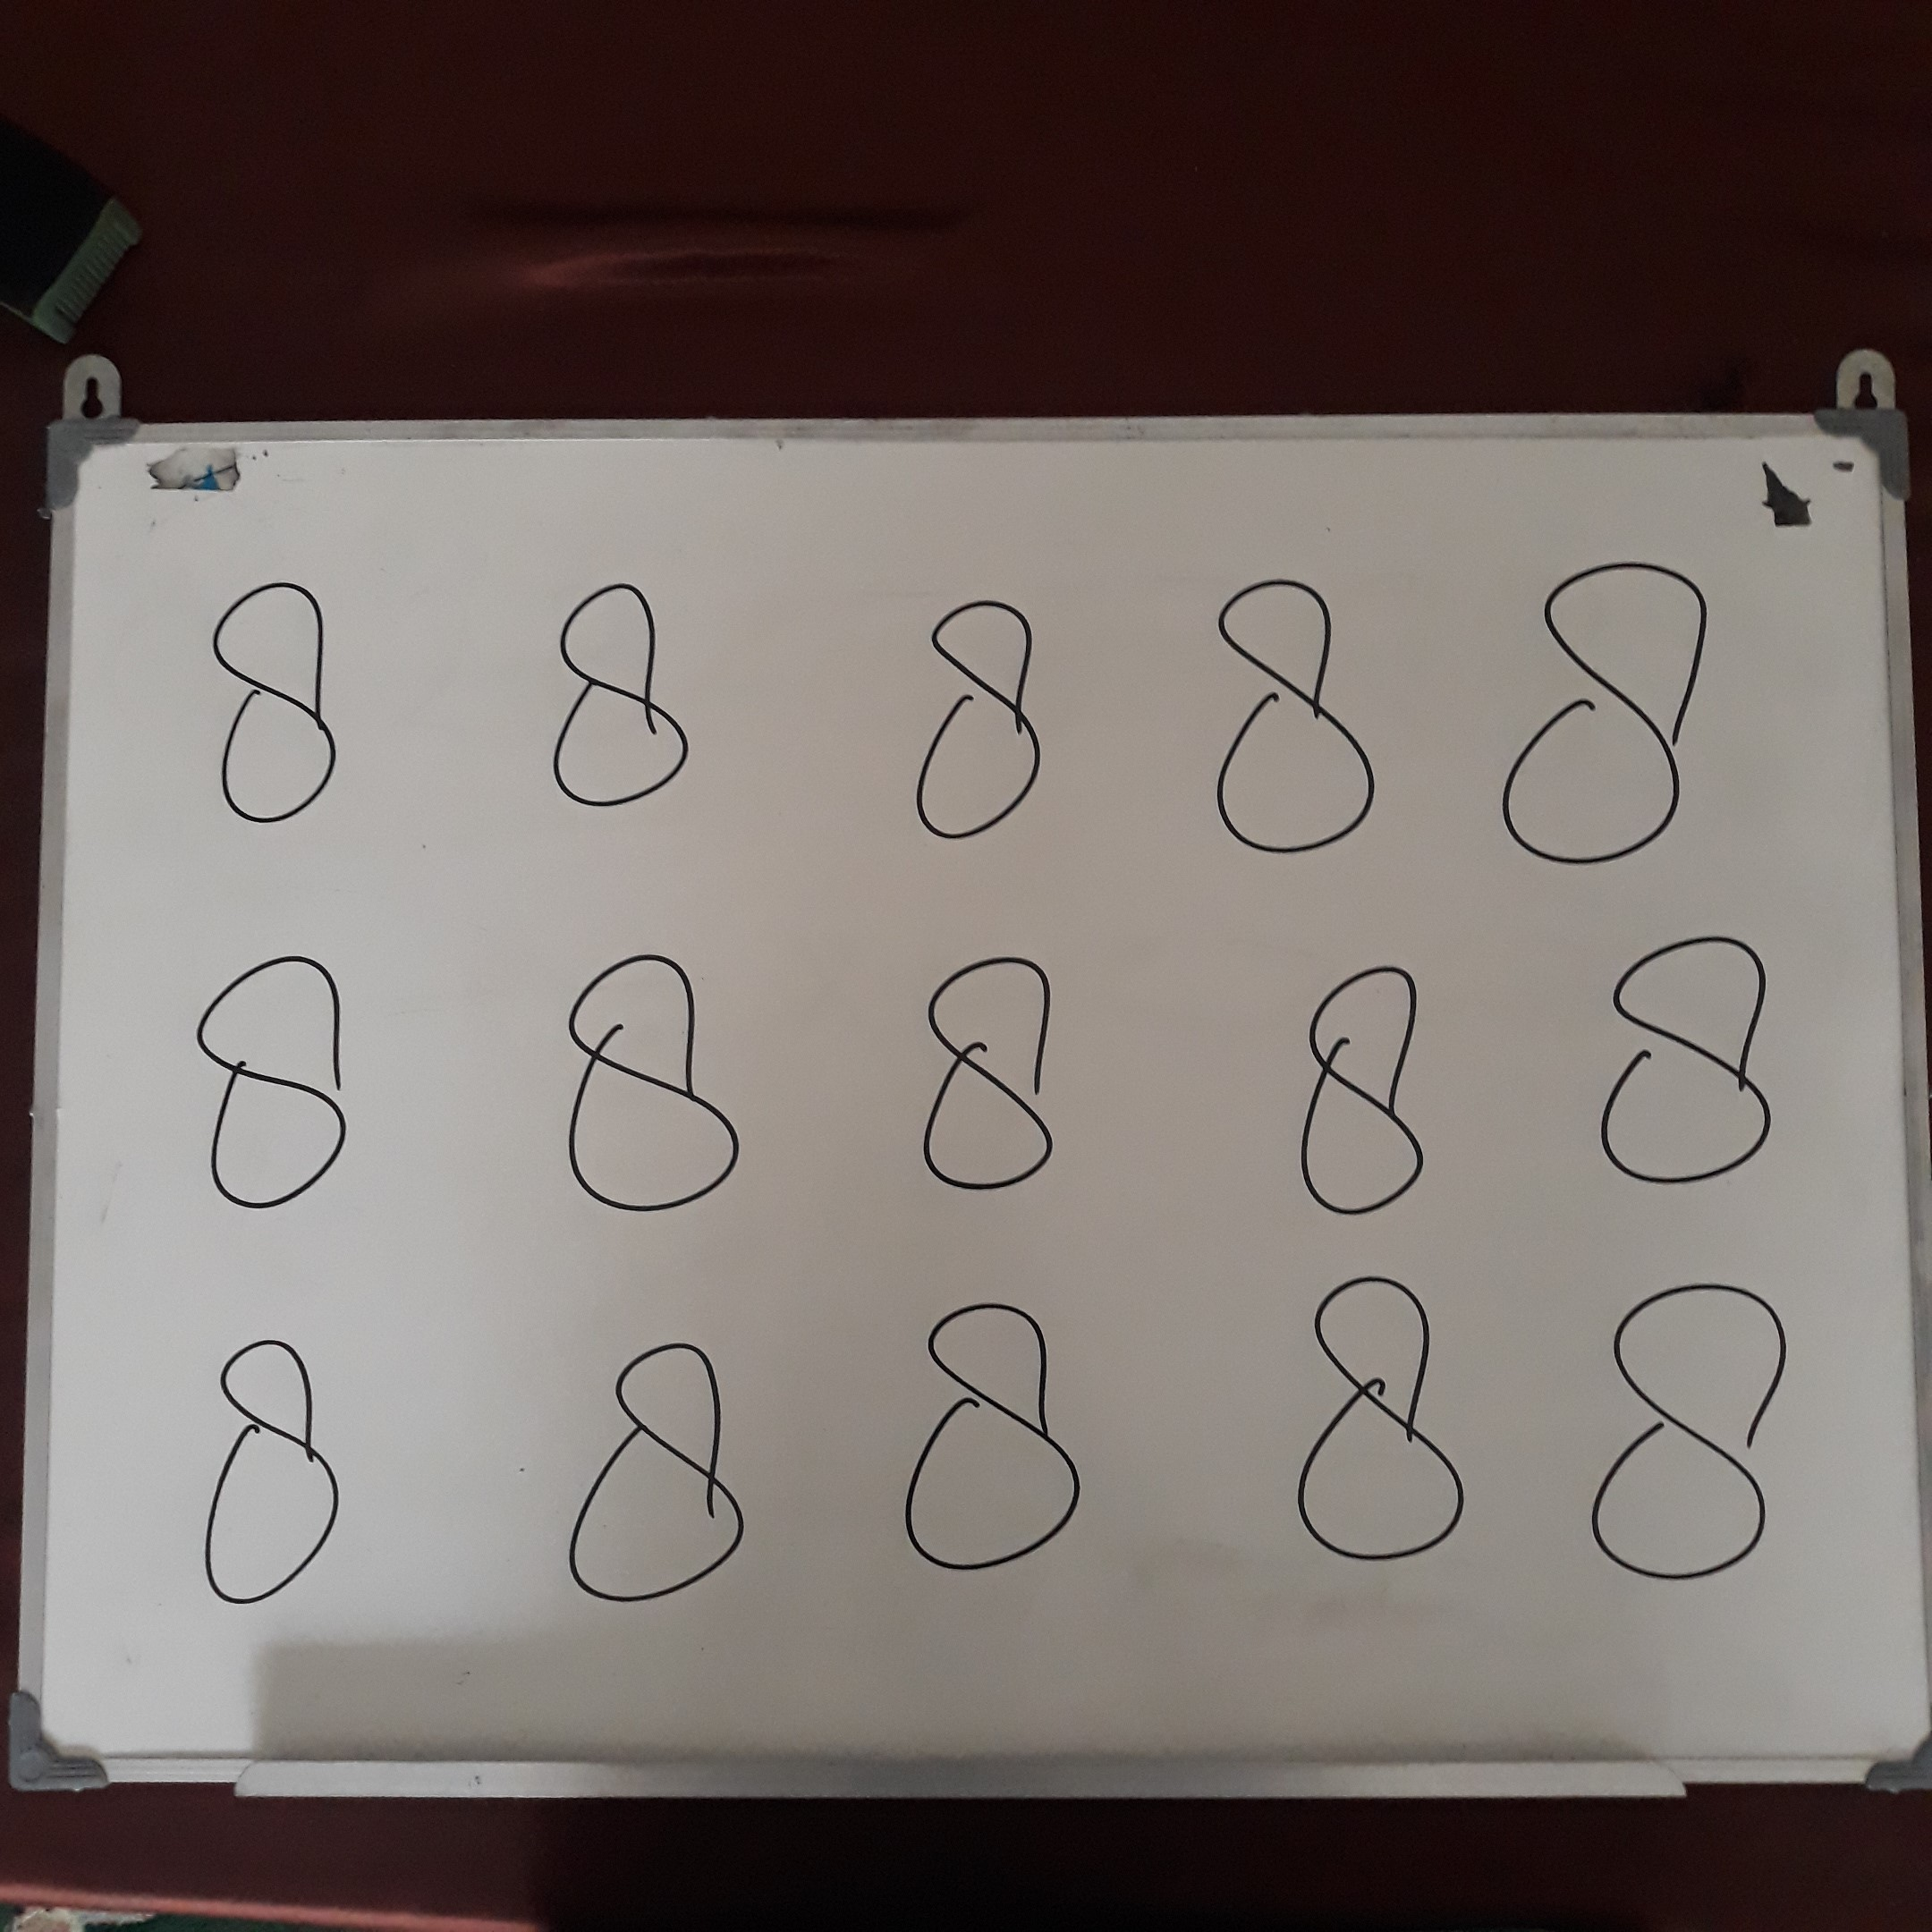num8: (1572, 1274, 1813, 1609), (1496, 556, 1730, 886), (880, 1279, 1111, 1609), (533, 938, 781, 1246), (1281, 1255, 1487, 1597), (1579, 921, 1819, 1214), (172, 936, 392, 1244), (1195, 560, 1405, 877), (569, 1324, 779, 1622), (521, 565, 722, 845), (181, 1329, 369, 1618), (896, 942, 1080, 1219), (1288, 949, 1458, 1231), (198, 569, 364, 849), (902, 584, 1063, 864)
